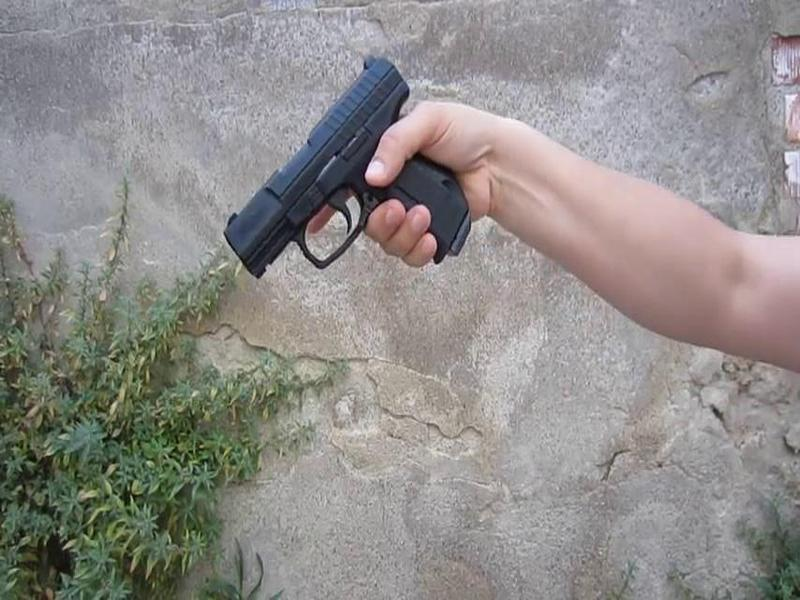Pistola: (219, 52, 492, 299)
